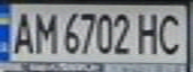0: (93, 9, 115, 55)
2: (112, 10, 136, 55)
6: (60, 9, 81, 55)
7: (78, 9, 96, 55)
A: (6, 8, 36, 55)
C: (154, 9, 187, 56)
H: (133, 9, 163, 55)
M: (30, 8, 57, 55)
